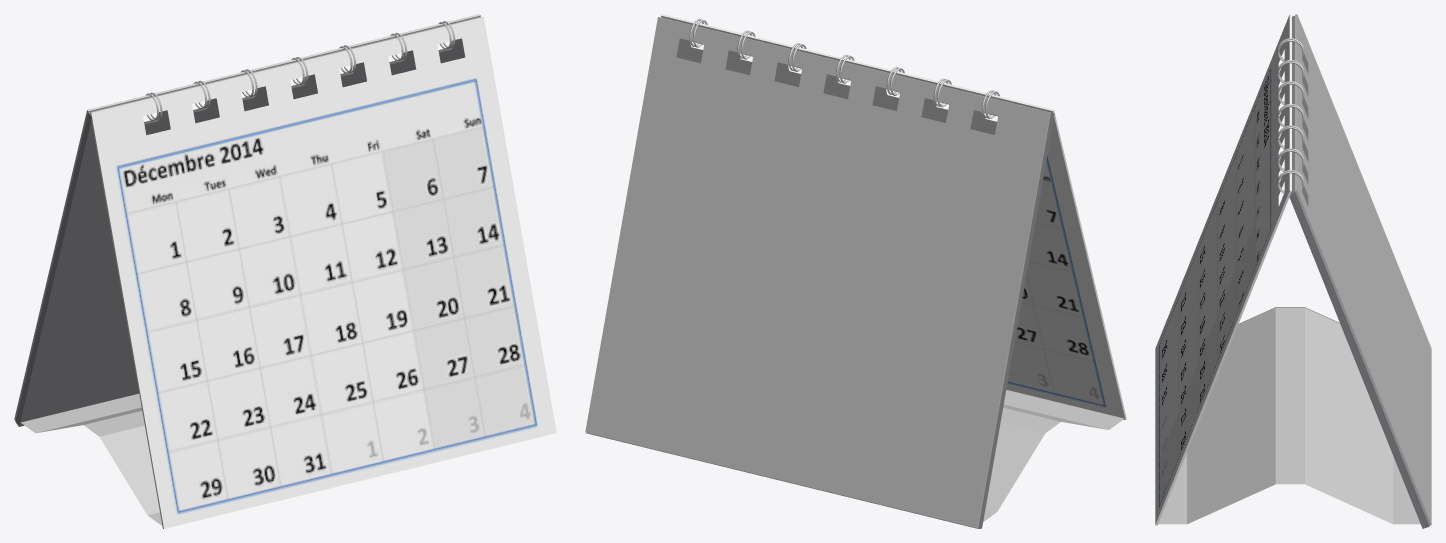
The model's file is sweethome3d-blendswap-cc-0-calendar.glb.
3 renders of one model, left to right at view 1: azimuth 30°, elevation 25°; view 2: azimuth 150°, elevation 25°; view 3: azimuth 270°, elevation 25°, orthographic. The views are drawn at different scales.
Visible parts, largest first — view 1: Cube, Cube.002, Cube.003, Cube.001; view 2: Cube.001, Cube, Cube.003, Cube.002; view 3: Cube.003, Cube.001, Cube, Cube.002.
Part boxes in pixels (x1,y1,x2,y2): Cube: [90, 17, 556, 528]; Cube.002: [15, 16, 480, 426]; Cube.003: [21, 393, 162, 525]; Cube.001: [14, 14, 480, 420]; Cube.001: [585, 17, 1050, 527]; Cube: [661, 14, 1126, 419]; Cube.003: [983, 390, 1124, 521]; Cube.002: [586, 38, 1054, 528]; Cube.003: [1158, 307, 1420, 524]; Cube.001: [1295, 14, 1431, 525]; Cube: [1155, 14, 1291, 525]; Cube.002: [1289, 15, 1429, 528].
Bounding box in the file's own units: 12.01 × 10.81 × 7.93.
5 materials, 1 textured.
